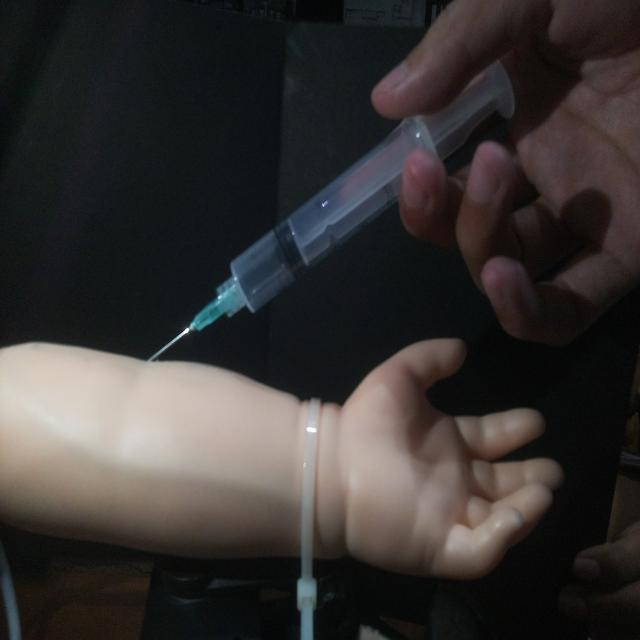26deg: (142, 54, 518, 365)
